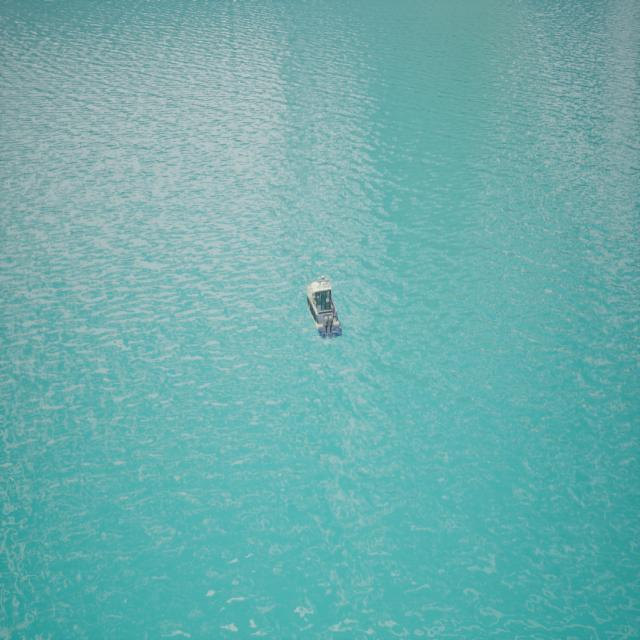ship: (304, 274, 342, 340)
